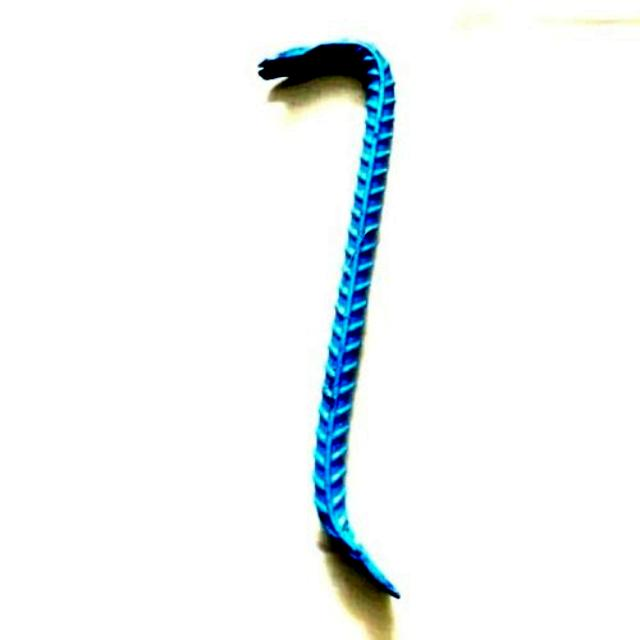crow bar: (259, 44, 400, 604)
